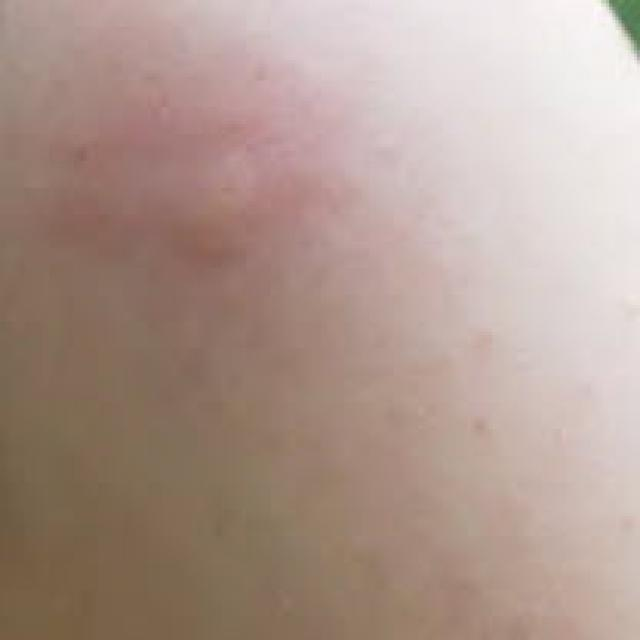sinek: (71, 73, 317, 308)
